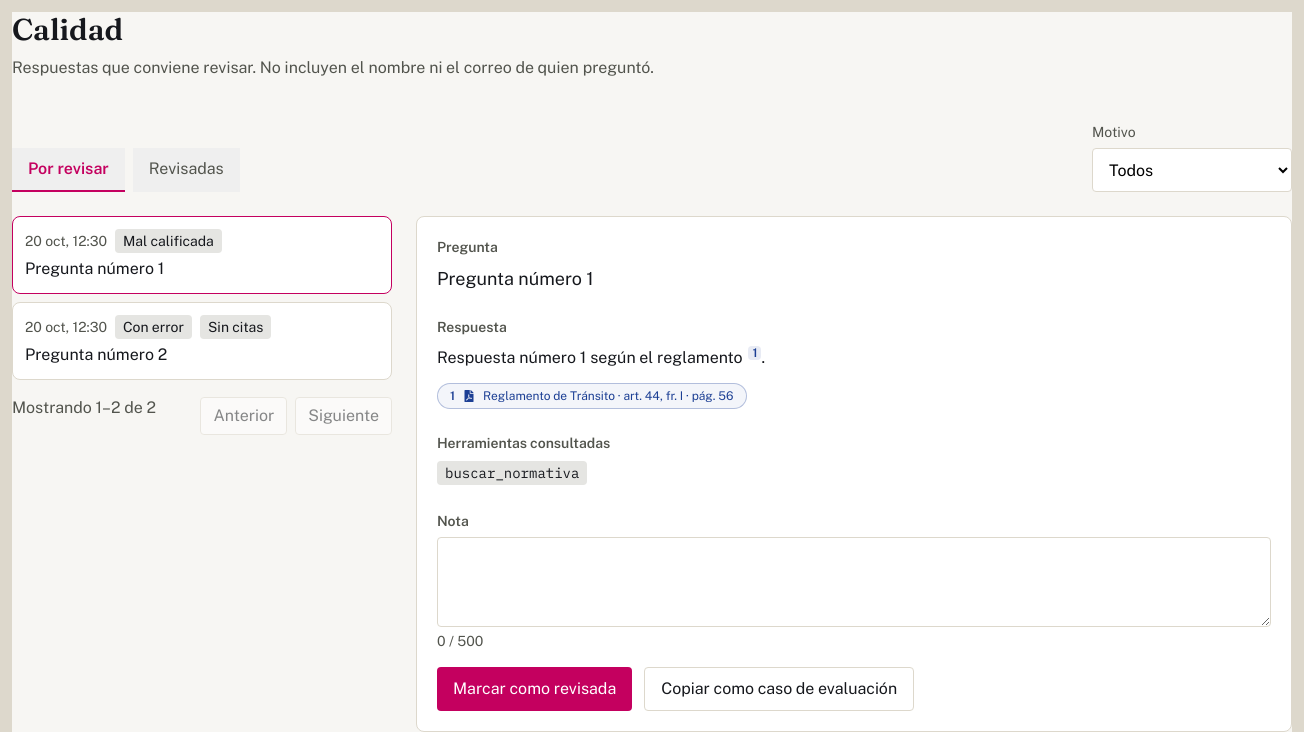
it: Calidad › muestra pregunta, respuesta y fuentes de la fila elegida
This screenshot has width=1304, height=732.
Expected: the 2nd text "Pregunta número 1" is shown, [437,268,594,289]
Expected: the text "Respuesta número 1 según el reglamento 1 ." is shown, [437,346,765,367]
Click the button "20 oct, 12:30 Con error Sin citas Pregunta número 2" at (202, 341), box [12,302,392,380]
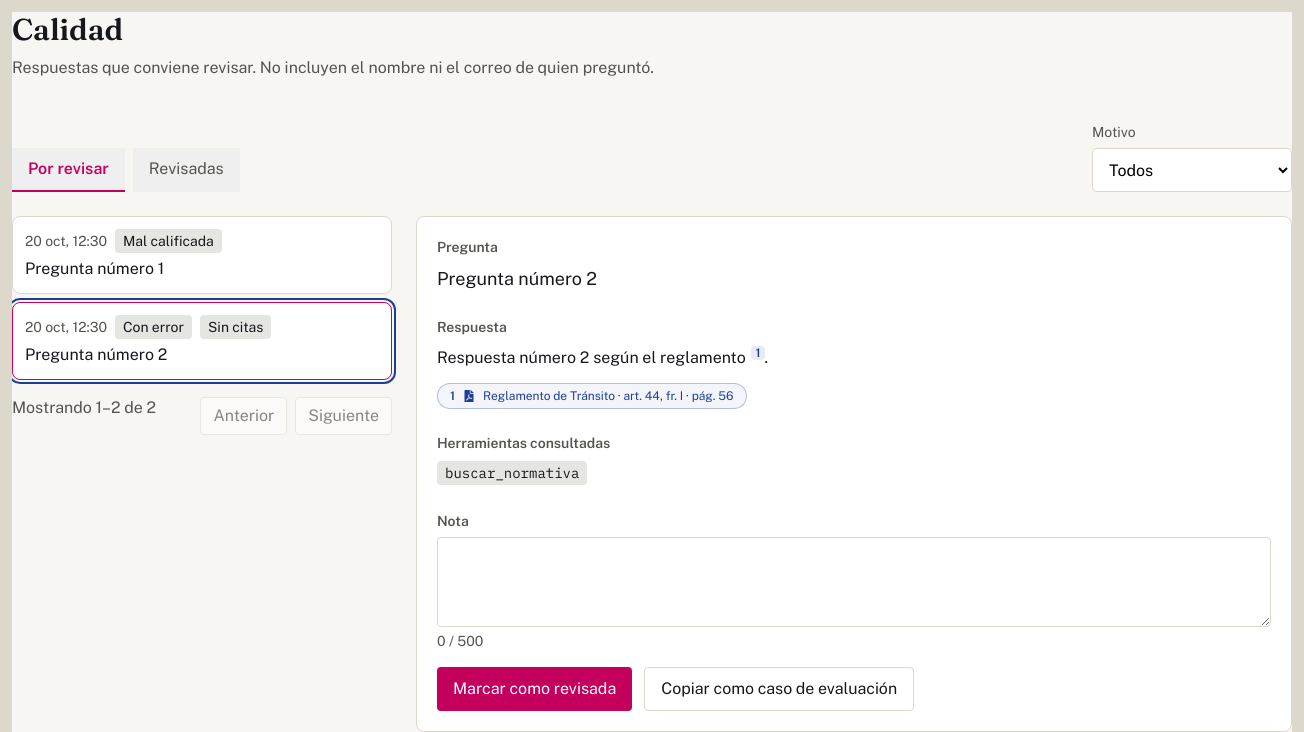
Expected: the text "Con error" is shown, [115,315,192,339]
Expected: the 1st text "Pregunta número 2" is shown, [437,268,597,289]
